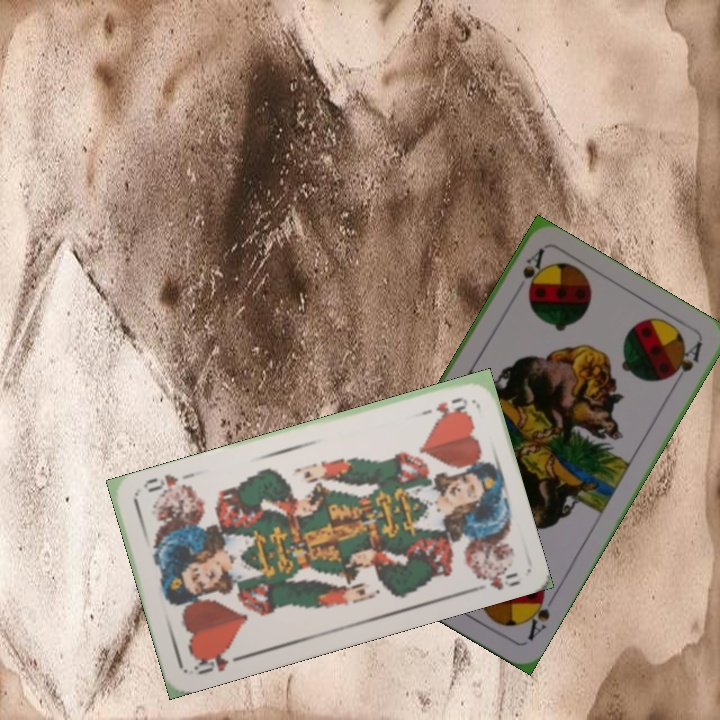HO: (189, 646, 245, 678), (414, 393, 471, 419)
SA: (519, 585, 553, 644), (518, 245, 547, 296)
